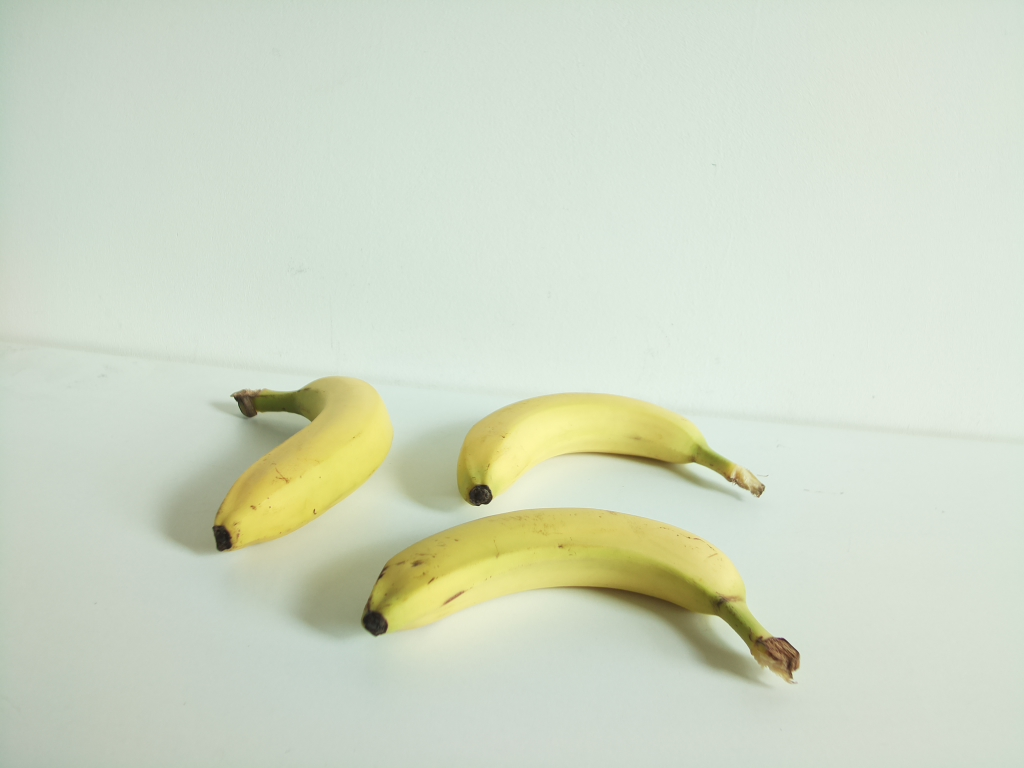banana: (363, 510, 803, 680), (456, 391, 766, 505), (210, 377, 394, 556)
